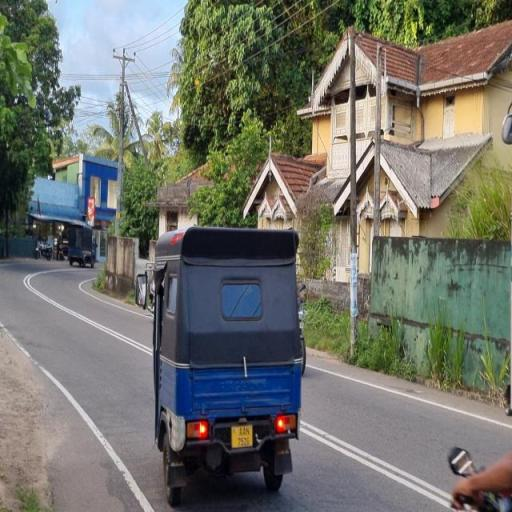double_white_line: (299, 418, 458, 510), (22, 270, 150, 358)
